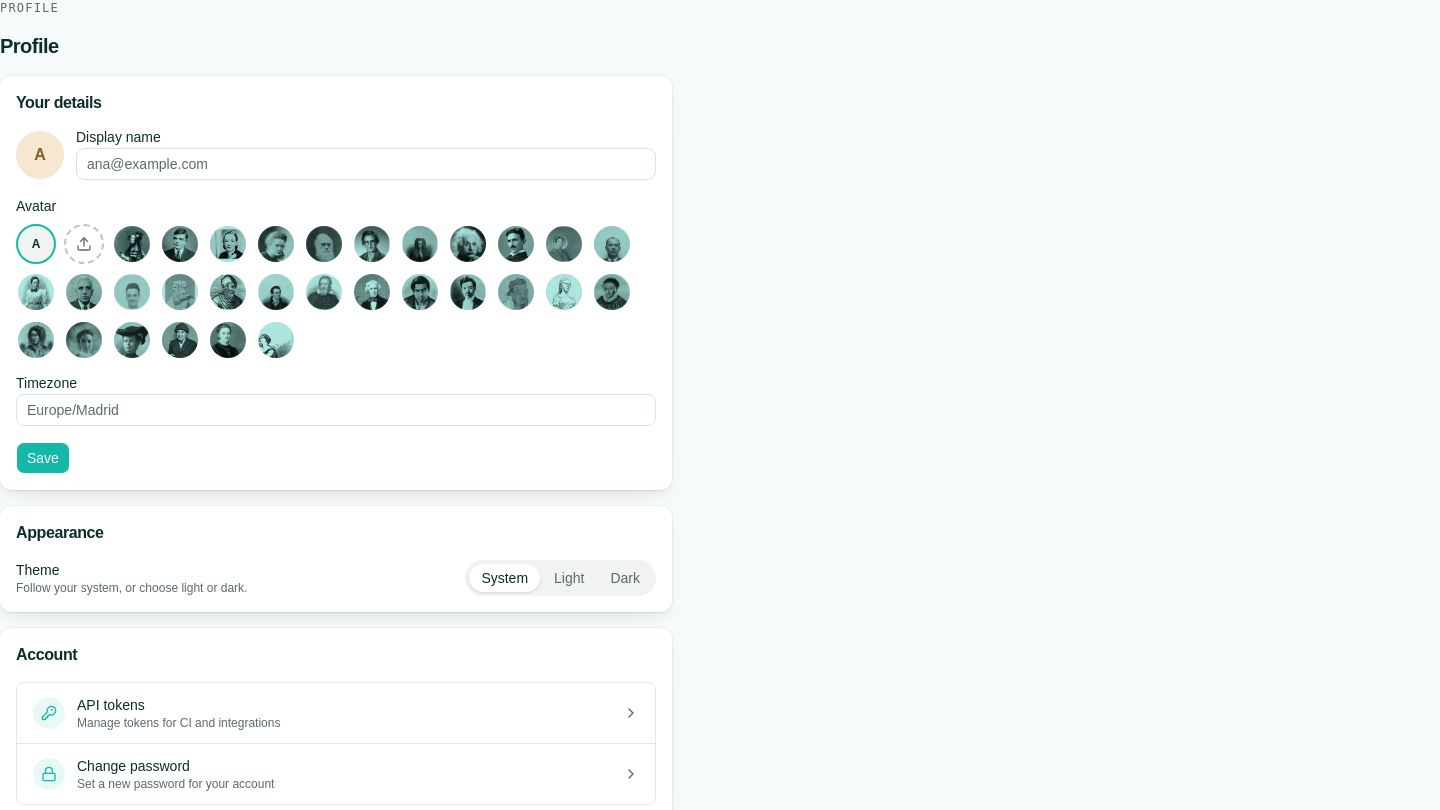
it: ProfilePage › Change password (add-change-own-password) › is not disabled — opens a dialog
Click the button "Change password Set a new password for your account" at (49, 774), box top-left (17, 744), bottom-right (655, 804)
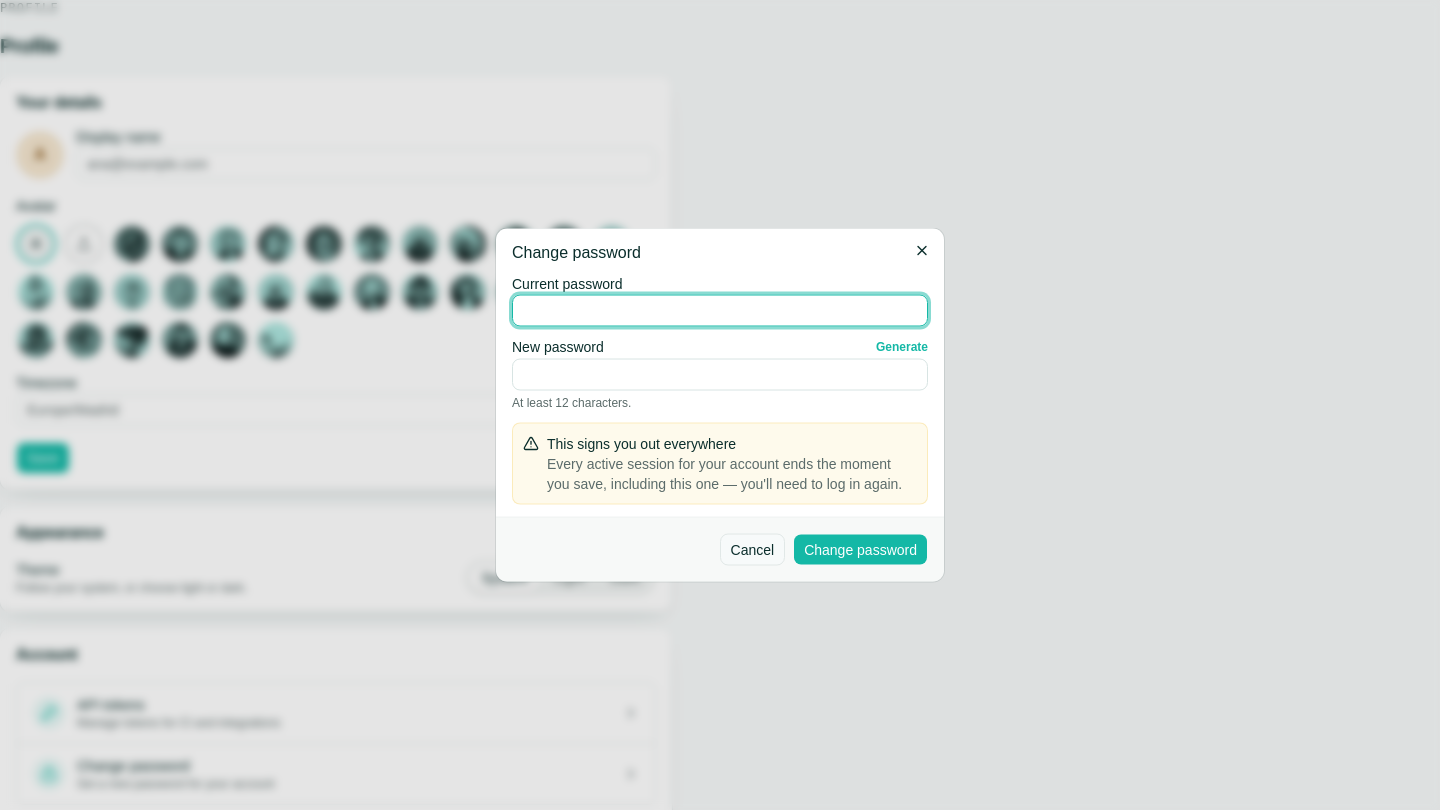
Expected: the password field labelled "Current password" is shown, top-left (512, 294), bottom-right (928, 326)
Expected: the password field labelled "New password" is shown, top-left (512, 358), bottom-right (928, 390)
